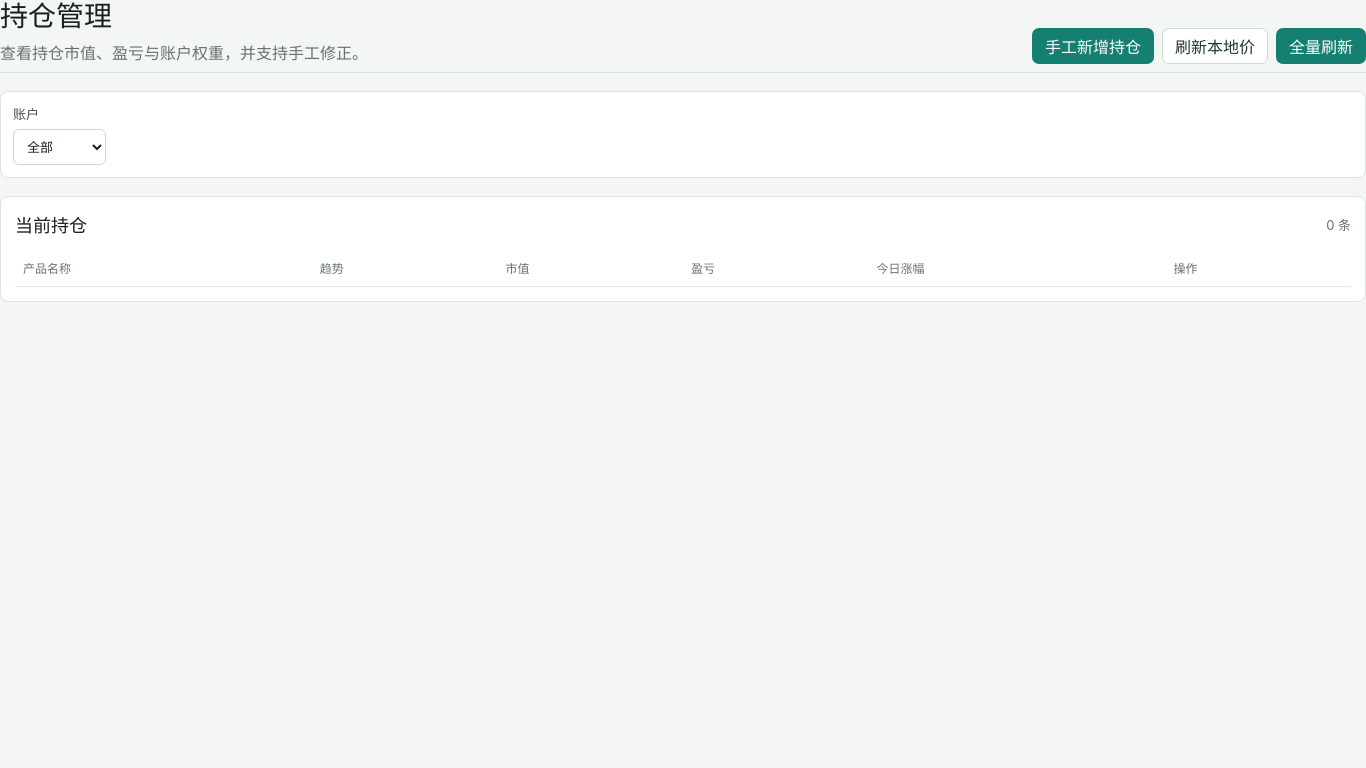
Scenario: create form buttons › opens the manual position form in a small dialog after clicking the add button
Expected: the field labelled "产品代码" is not shown
Click the button "手工新增持仓": coordinates (1093, 46) [1032,28,1154,64]
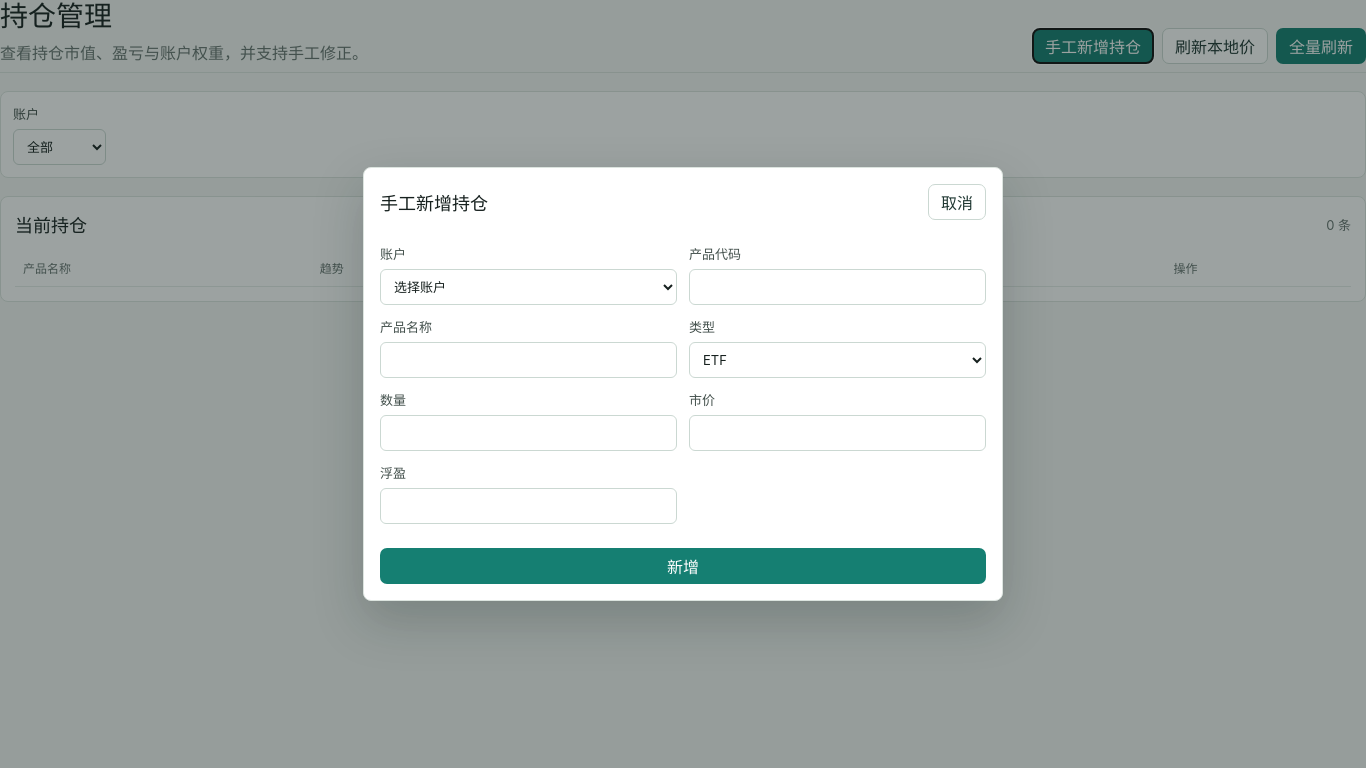
Expected: the field labelled "产品代码" is shown, [689,269,986,305]
Expected: the number field labelled "数量" is shown, [380,415,677,451]
